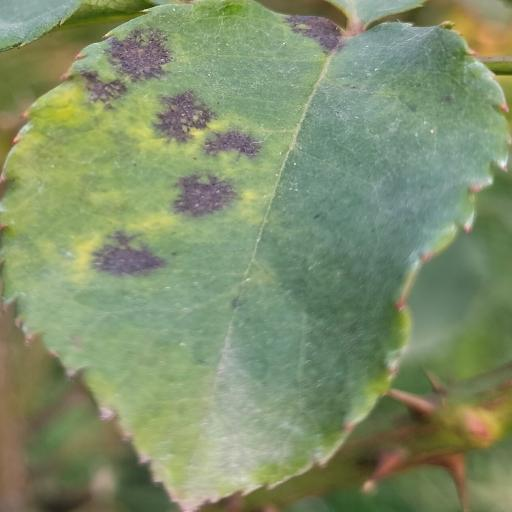black_spot: (0, 0, 508, 512)
